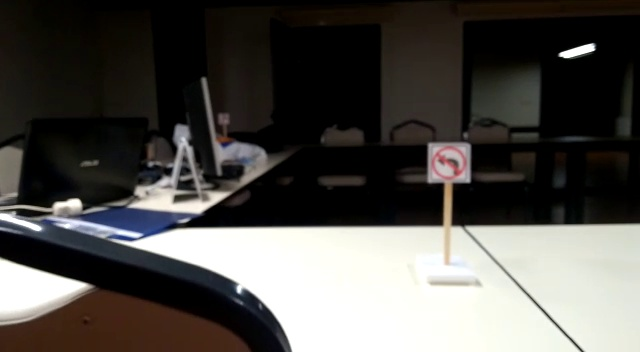sola_donulmez: (427, 143, 468, 183)
